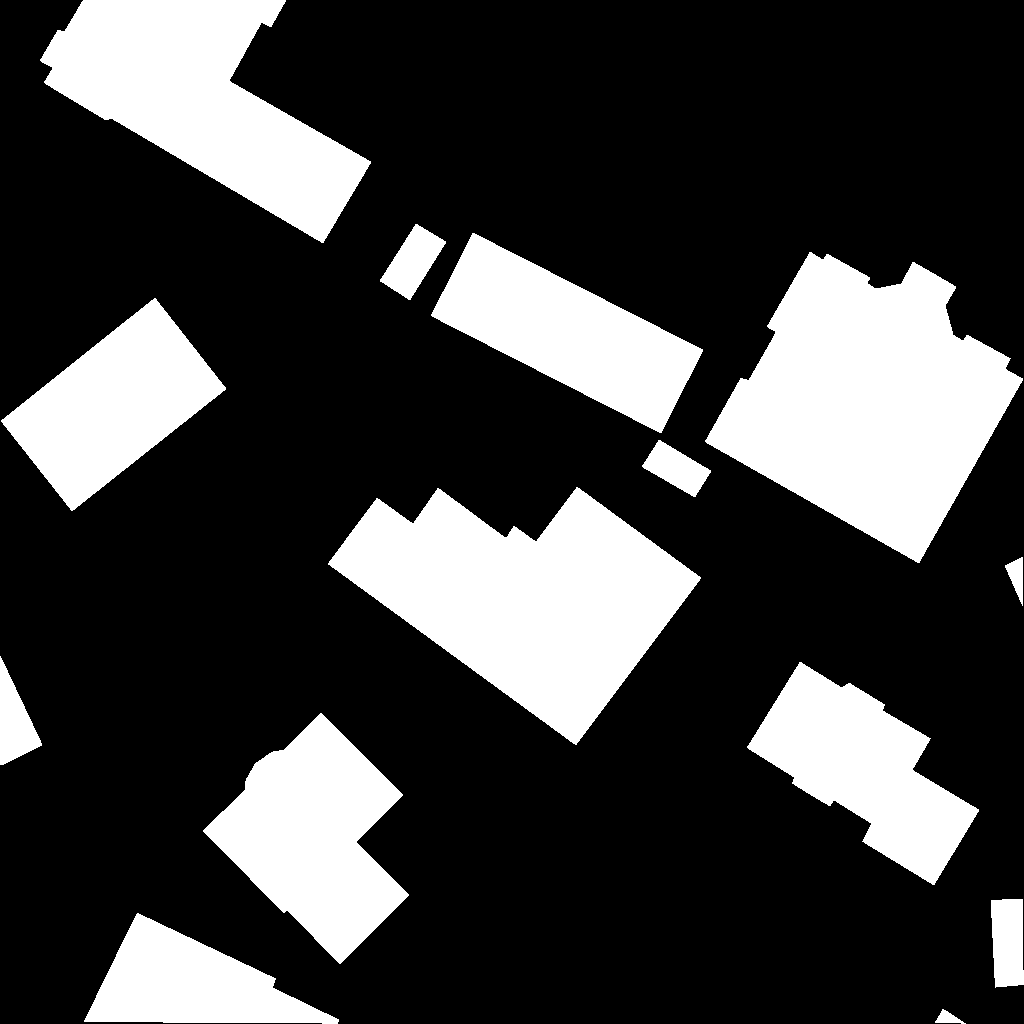building: (705, 252, 1024, 564), (328, 487, 702, 746), (40, 0, 372, 244), (431, 233, 704, 434), (747, 662, 980, 886), (203, 713, 410, 965), (1, 298, 227, 512), (84, 913, 340, 1024), (380, 224, 447, 301), (0, 655, 43, 766), (642, 440, 712, 498), (991, 899, 1024, 988), (1005, 557, 1024, 608), (935, 1009, 967, 1024), (0, 126, 1, 129)
